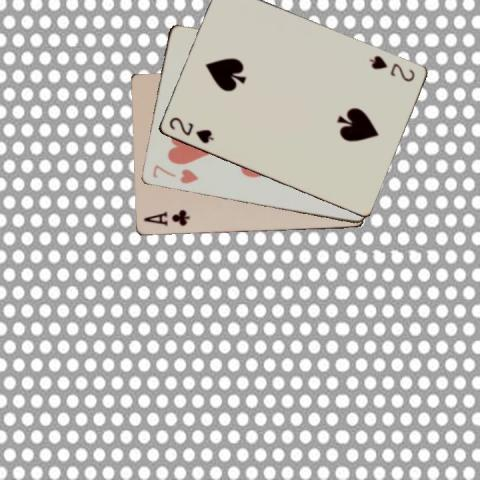2s: (165, 114, 215, 145), (367, 53, 416, 83)
7h: (150, 162, 199, 185)
Ac: (140, 208, 191, 227)
